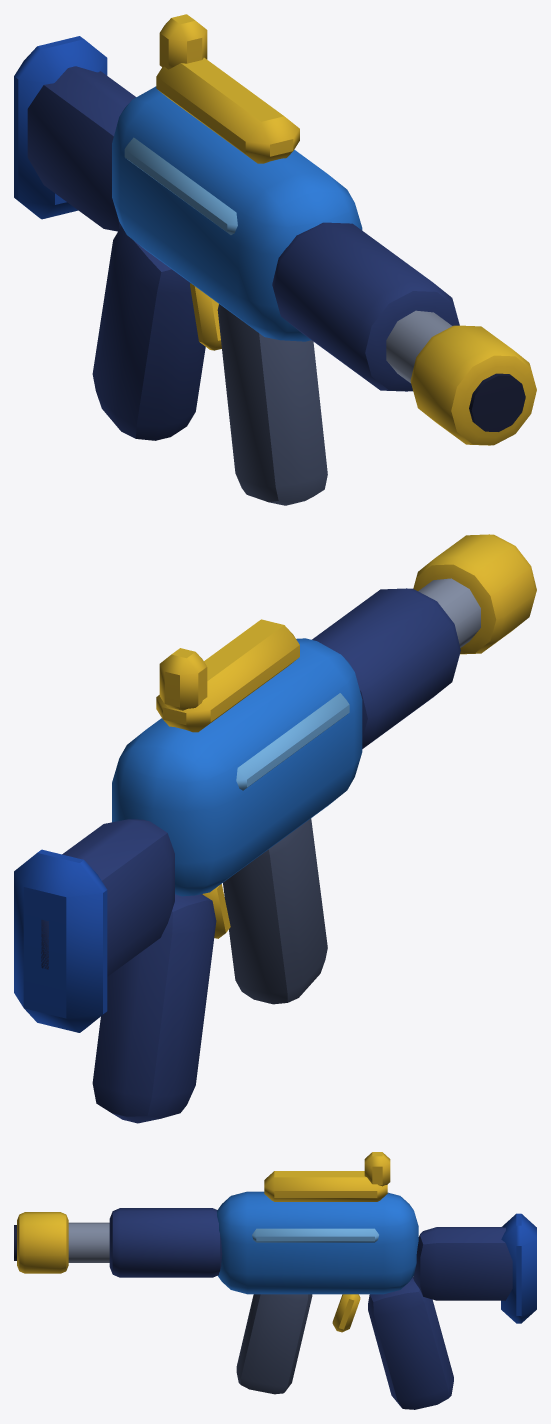
Rendered from w_j_rifle.glb.
3 renders of one model, top to bottom at view 1: azimuth 30°, elevation 25°; view 2: azimuth 150°, elevation 25°; view 3: azimuth 270°, elevation 25°, orthographic. The views are drawn at different scales.
Parts seen in each view (by area): view 1: body; view 2: body; view 3: body.
Boxes of the visible parts, x1,y1,x2,y2 form: body: (14, 14, 536, 505); body: (14, 534, 536, 1123); body: (14, 1152, 536, 1409).
Bounding box in the file's own units: 0.1422 × 0.4873 × 0.9144.
